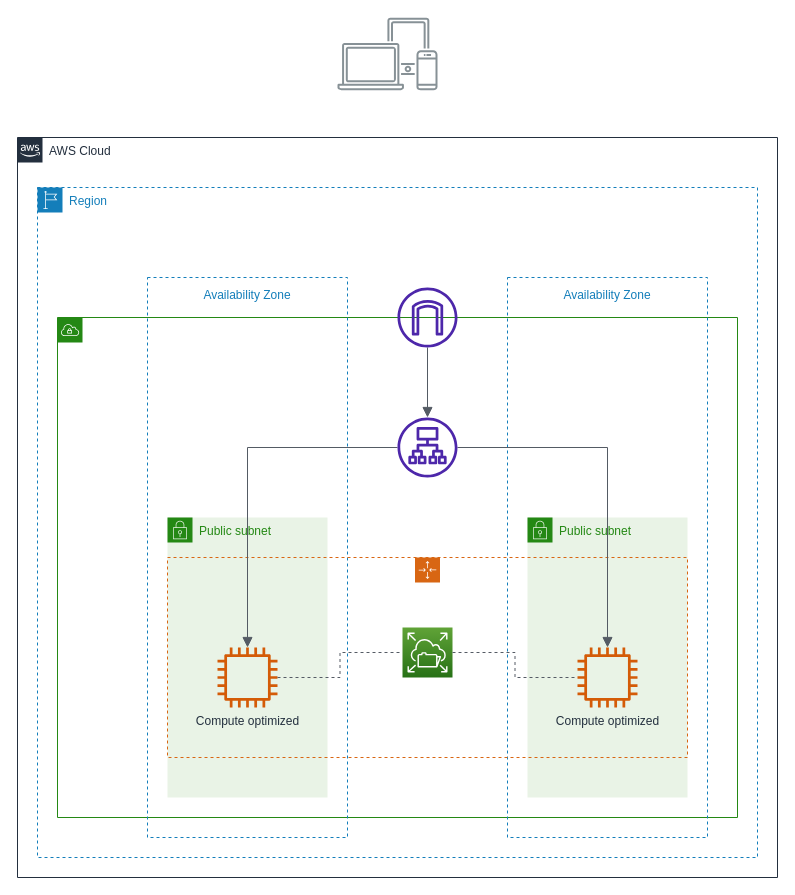
This 795x895 diagram has some shape labels left out. The shapes that lost their labels are listed below. From the top down, each one's box as (x1, y1, x2, y2) in pixels, then its label:
(56, 316, 738, 818): VPC
(402, 626, 452, 678): EFS
(166, 556, 688, 758): Auto Scaling group
